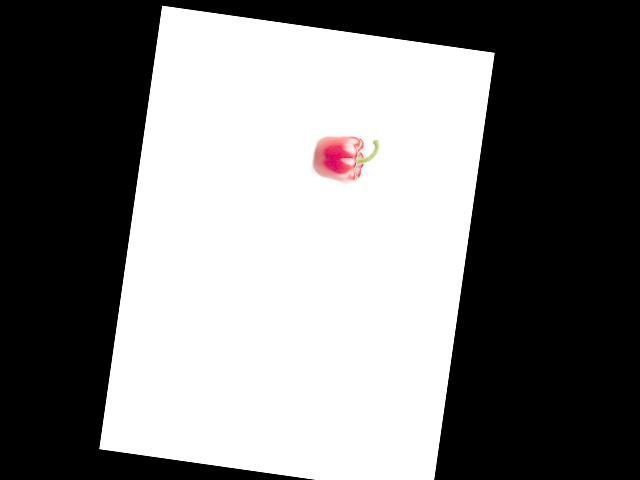bell_pepper: (310, 129, 380, 186)
